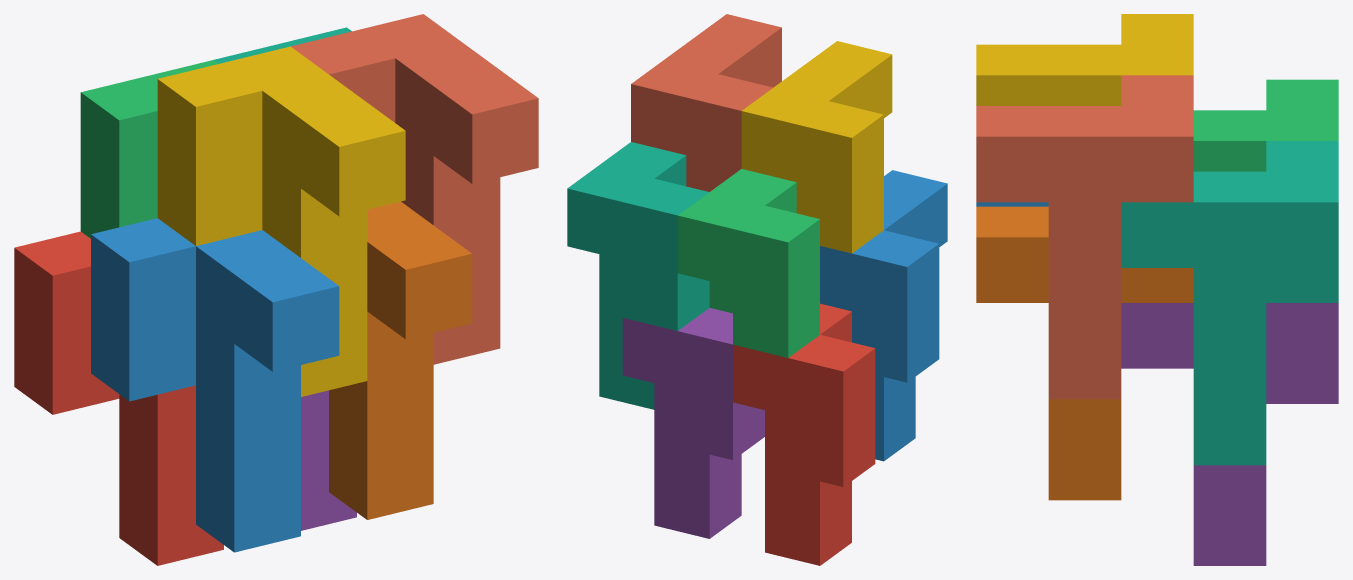
The model's file is tiling.obj.
3 views of the same model, side by side, from view 1: azimuth 30°, elevation 25°; view 2: azimuth 150°, elevation 25°; view 3: azimuth 270°, elevation 25° (orthographic). The views are drawn at different scales.
Visible parts, largest first — view 1: copy_1_domain_2, copy_1_domain_4, copy_1_domain_8, copy_1_domain_6, copy_1_domain_1, copy_1_domain_3, copy_1_domain_5, copy_1_domain_7; view 2: copy_1_domain_1, copy_1_domain_4, copy_1_domain_7, copy_1_domain_5, copy_1_domain_2, copy_1_domain_3, copy_1_domain_8; view 3: copy_1_domain_7, copy_1_domain_8, copy_1_domain_5, copy_1_domain_6, copy_1_domain_4, copy_1_domain_3.
Part boxes in pixels (bbox=[...]): copy_1_domain_2: bbox=[91, 218, 339, 552]; copy_1_domain_4: bbox=[157, 46, 405, 396]; copy_1_domain_8: bbox=[291, 14, 538, 364]; copy_1_domain_6: bbox=[329, 201, 472, 519]; copy_1_domain_1: bbox=[14, 231, 223, 565]; copy_1_domain_3: bbox=[80, 60, 218, 238]; copy_1_domain_5: bbox=[301, 390, 356, 530]; copy_1_domain_7: bbox=[214, 27, 351, 63]; copy_1_domain_1: bbox=[733, 303, 875, 565]; copy_1_domain_4: bbox=[741, 41, 892, 253]; copy_1_domain_7: bbox=[567, 142, 709, 409]; copy_1_domain_5: bbox=[622, 308, 764, 538]; copy_1_domain_2: bbox=[820, 170, 947, 461]; copy_1_domain_3: bbox=[677, 169, 819, 357]; copy_1_domain_8: bbox=[631, 14, 781, 191]; copy_1_domain_7: bbox=[1121, 141, 1338, 465]; copy_1_domain_8: bbox=[976, 75, 1193, 399]; copy_1_domain_5: bbox=[1121, 303, 1338, 565]; copy_1_domain_6: bbox=[976, 206, 1193, 500]; copy_1_domain_4: bbox=[976, 14, 1193, 105]; copy_1_domain_3: bbox=[1193, 79, 1338, 171].
Bounding box in the file's own units: 5 × 7 × 5.
